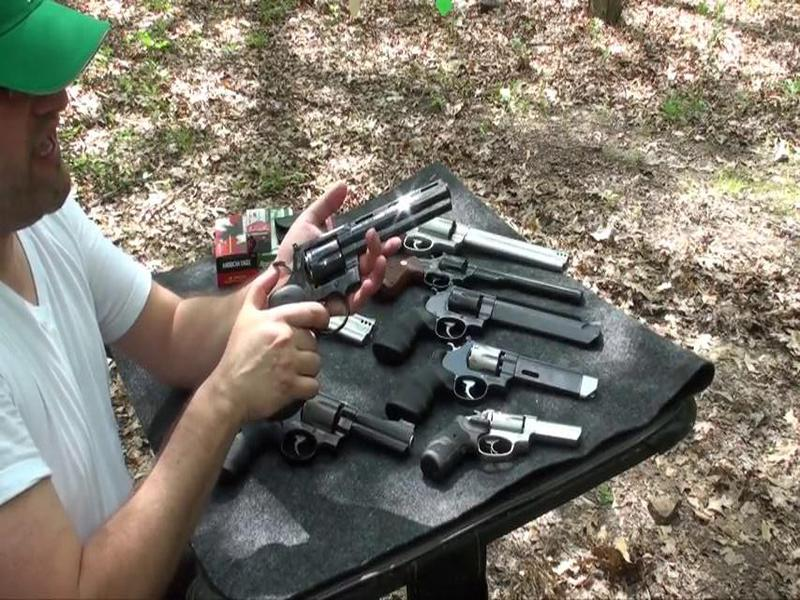Revolver: (275, 158, 457, 372)
